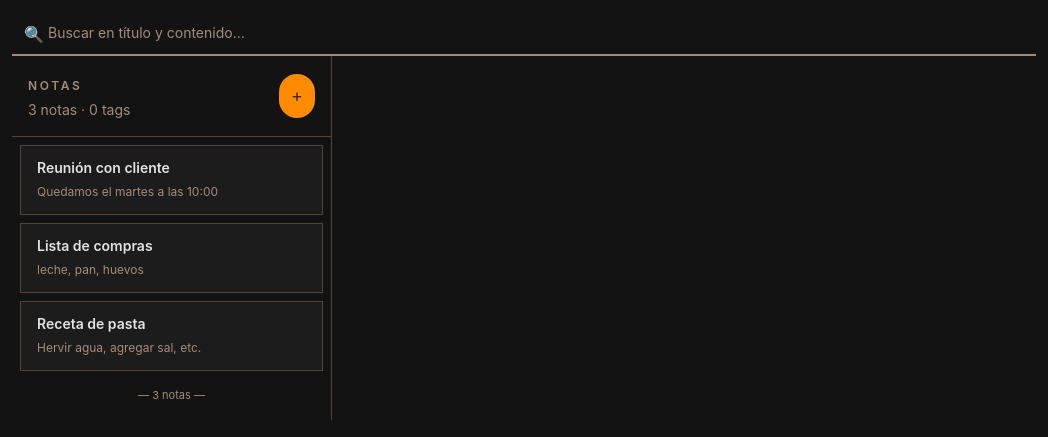
Test: MobileSearchPage (PR2 — shell-redesign-v1) › typing in the search bar filters notes by content (case-insensitive)
The width and height of the screenshot is (1048, 437).
In the search field named "buscar notas": (524, 34) [12, 12, 1036, 56], type "leche"
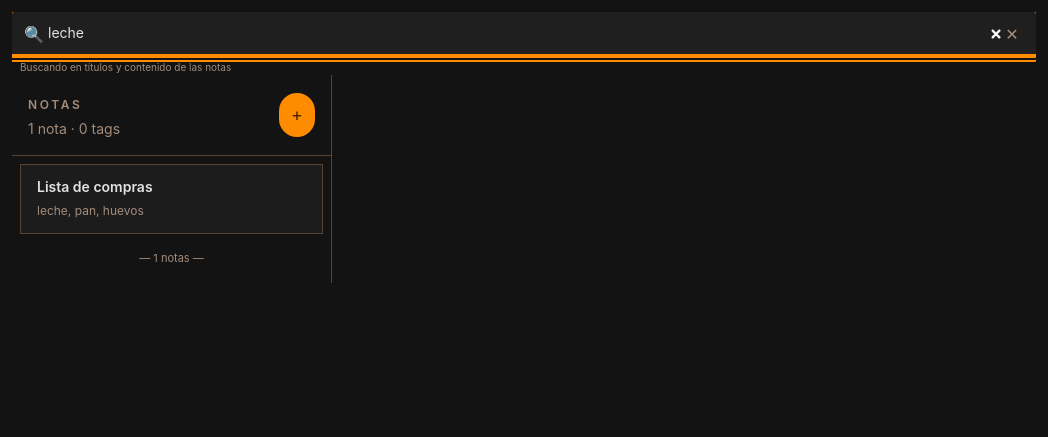
Expected: the text "Lista de compras" is shown, [37, 178, 153, 195]
Result: the button "Reunión con cliente" is gone
Result: the button "Receta de pasta" is gone
